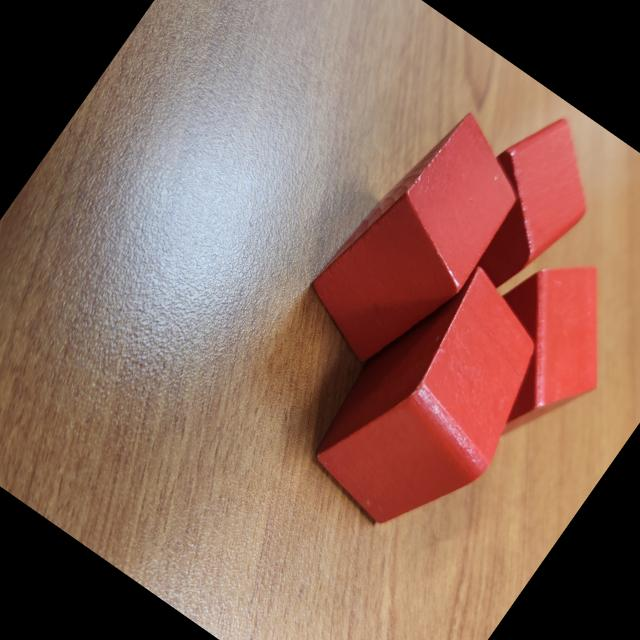red: (296, 245, 580, 558), (287, 93, 548, 388), (431, 228, 640, 468), (430, 97, 624, 310)
